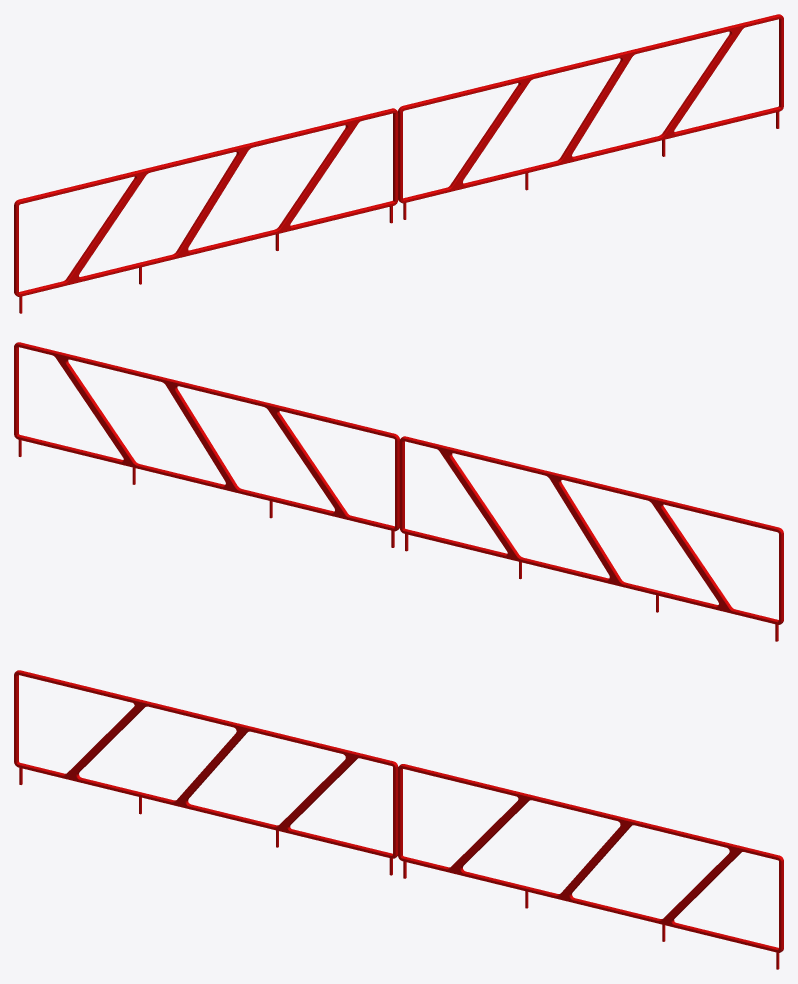
File: Perilla_3.fbx
The picture shows the model from 3 angles, top to bottom: view 1: azimuth 30°, elevation 25°; view 2: azimuth 150°, elevation 25°; view 3: azimuth 330°, elevation 25°; orthographic projection.
Visible parts, largest first — view 1: L:pCube164; view 2: L:pCube164; view 3: L:pCube164.
Boxes of the visible parts, <box> form: L:pCube164: <box>14,14,783,313</box>; L:pCube164: <box>14,342,783,641</box>; L:pCube164: <box>14,670,783,969</box>.
Size of the model in its own units: 873 by 123 by 4.62.
